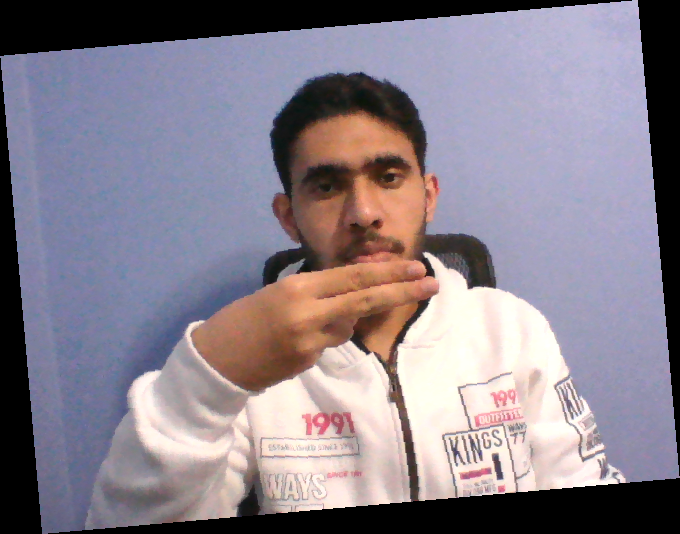H: (173, 258, 441, 400)
